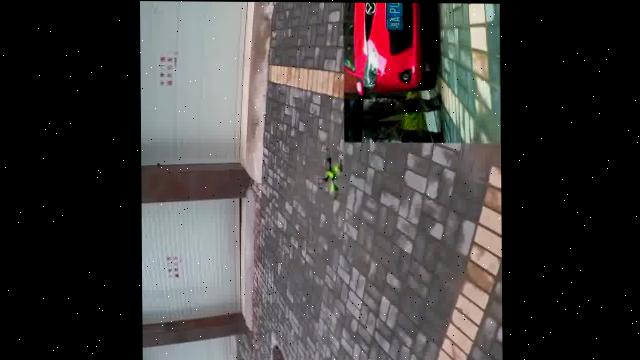drone: (315, 145, 343, 198)
